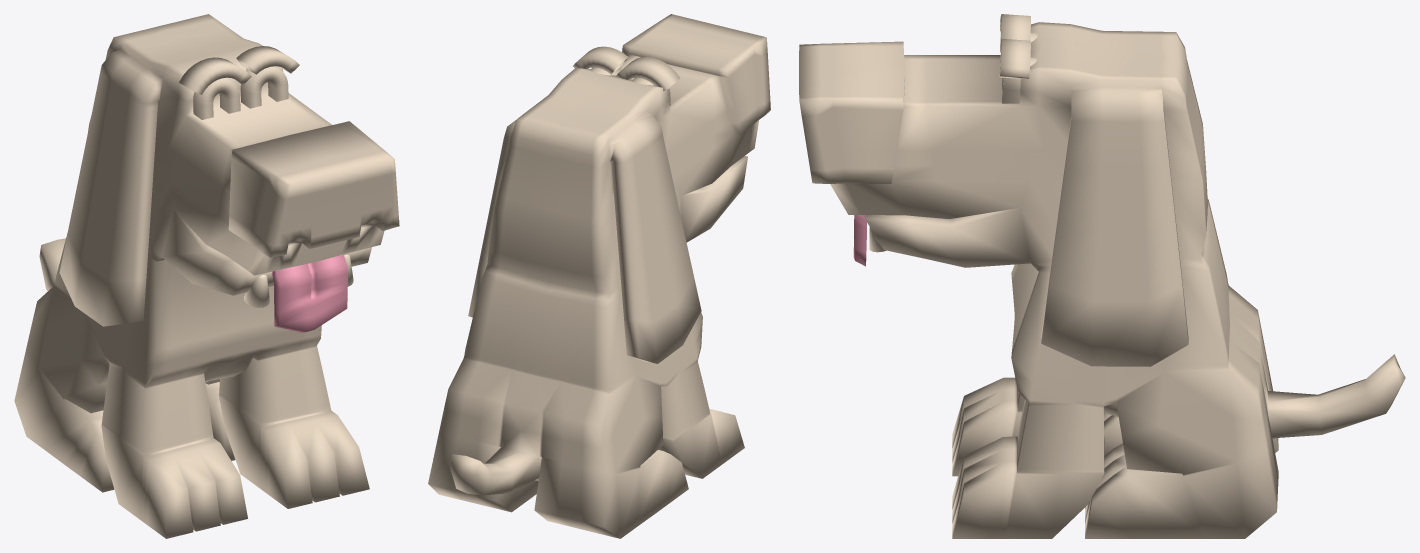
Rendered from dog_shiny_noModifiers.gltf.
3 views of the same model, side by side, from view 1: azimuth 30°, elevation 25°; view 2: azimuth 150°, elevation 25°; view 3: azimuth 270°, elevation 25° (orthographic). The views are drawn at different scales.
Parts seen in each view (by area): view 1: dog, eyes, tongue, right tooth; view 2: dog, eyes; view 3: dog, eyes.
Part boxes in pixels (<box>): dog: <box>14,14,399,538</box>; eyes: <box>179,46,299,119</box>; tongue: <box>271,254,347,332</box>; right tooth: <box>244,275,269,307</box>; dog: <box>428,14,770,538</box>; eyes: <box>573,46,680,105</box>; dog: <box>799,22,1405,538</box>; eyes: <box>999,14,1037,103</box>.
Size of the model in its own units: 0.4759 by 0.9685 by 1.17.
